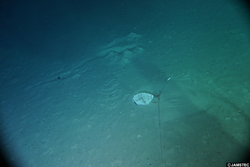plastic bag: (129, 90, 157, 108)
